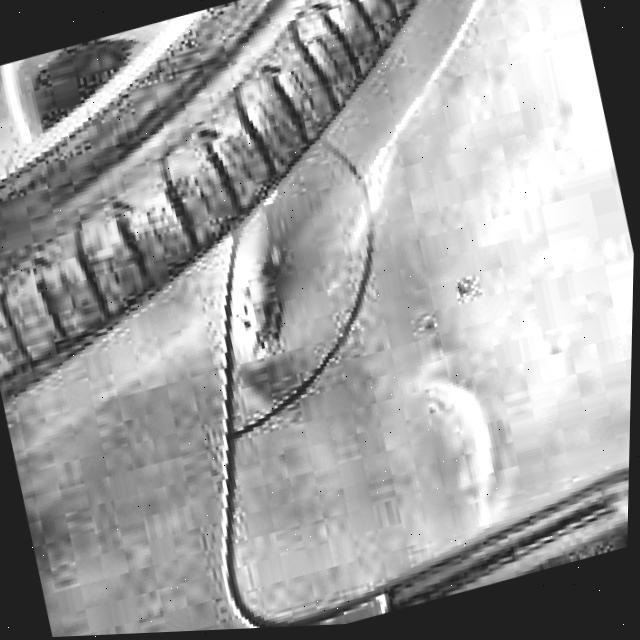door_dent: (398, 350, 533, 525), (200, 236, 312, 369)
